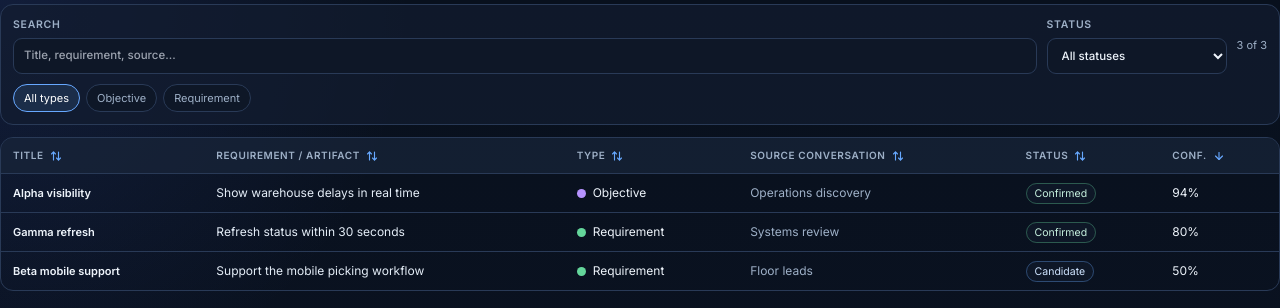
Test case: RequirementsTable › searches and combines type and status filters
The image size is (1280, 308).
In the search field labelled "Search": (525, 56) left=13, top=38, right=1036, bottom=74, type "mobile"
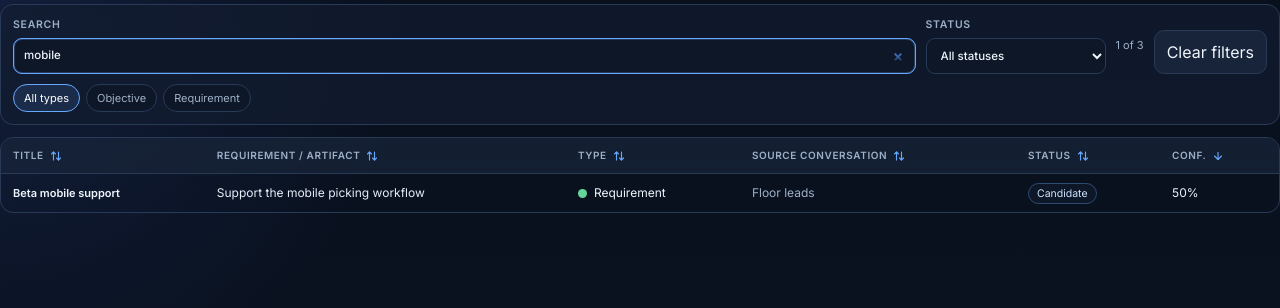
expect the text "Beta mobile support" is shown: met, box left=1, top=174, right=205, bottom=212
expect the text "1 of 3" is shown: met, box left=1116, top=37, right=1144, bottom=54
expect the text "Alpha visibility" is gone: met
Click the button "Clear filters": (1210, 52) left=1154, top=30, right=1267, bottom=74
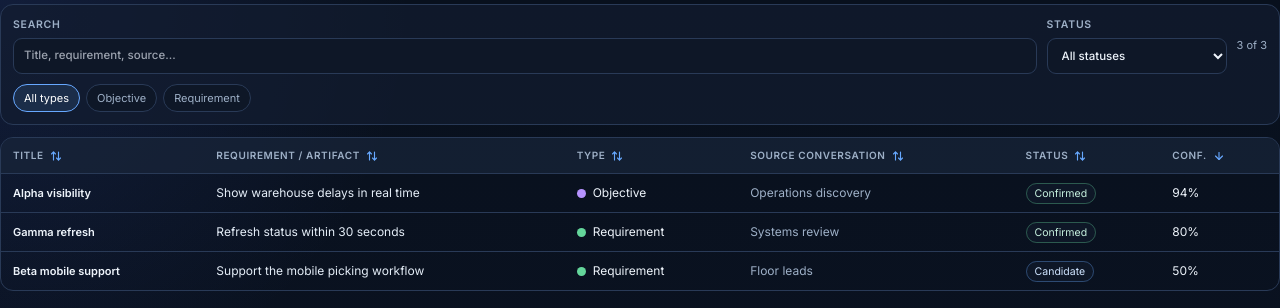
Click the button "Requirement": (207, 98) left=163, top=84, right=251, bottom=112
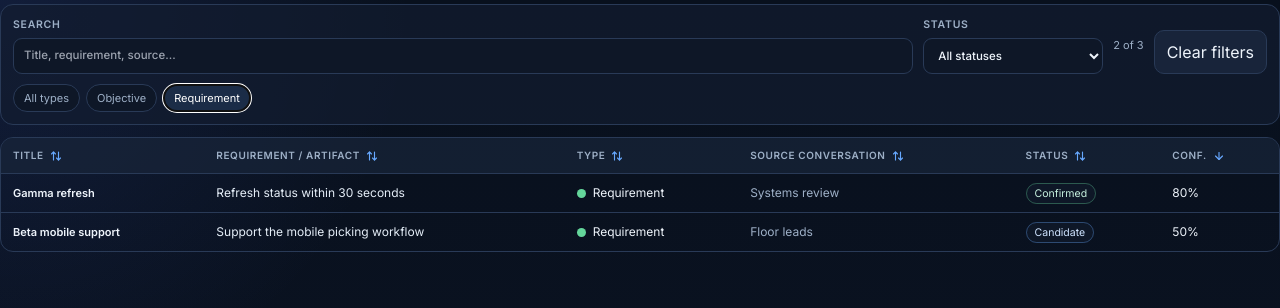
expect the text "2 of 3" is shown: met, box left=1113, top=37, right=1144, bottom=54
Select "Candidate" in the dropdown labelled "Status": (1013, 56) left=923, top=38, right=1103, bottom=74
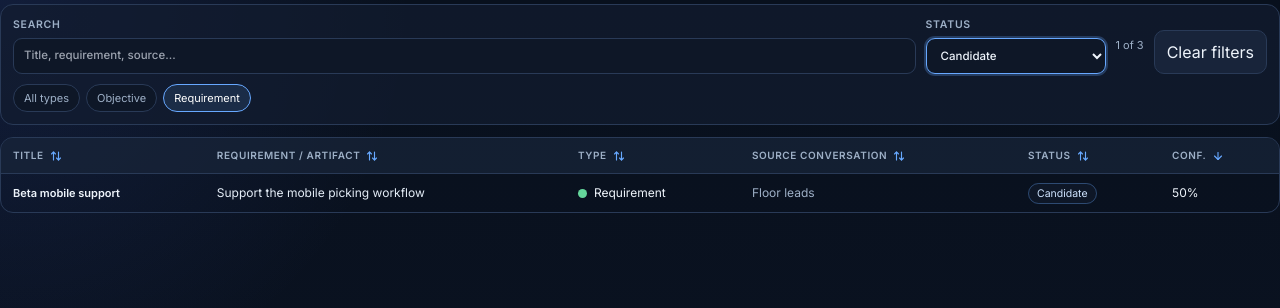
expect the text "Beta mobile support" is shown: met, box left=1, top=174, right=205, bottom=212
expect the text "1 of 3" is shown: met, box left=1116, top=37, right=1144, bottom=54
